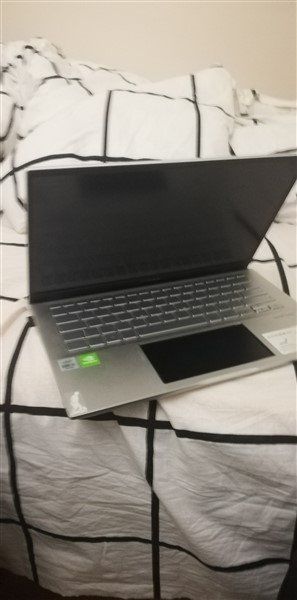laptop: (25, 145, 297, 416)
